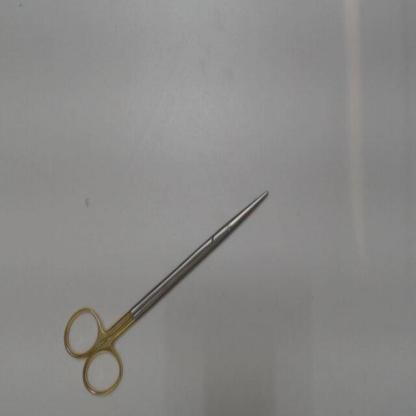7 Metzenbaum Scissors: (59, 183, 276, 405)
